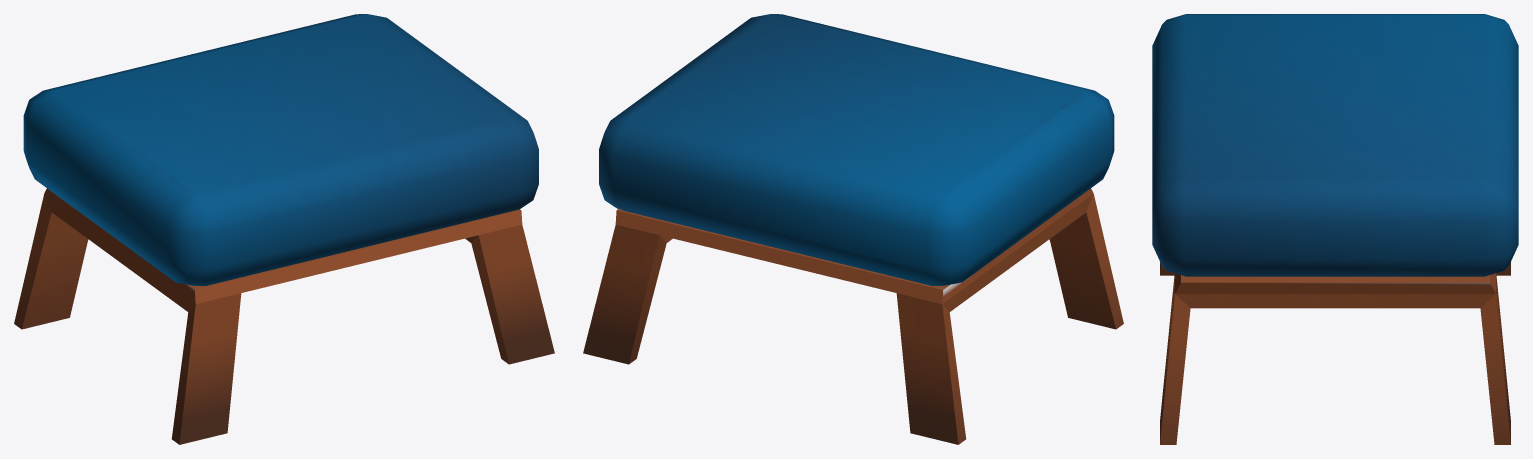
The model's file is furniture_sofa2.fbx.
3 views of the same model, side by side, from view 1: azimuth 30°, elevation 25°; view 2: azimuth 150°, elevation 25°; view 3: azimuth 270°, elevation 25° (orthographic). The views are drawn at different scales.
Visible parts, largest first — view 1: furniture_sofa2; view 2: furniture_sofa2; view 3: furniture_sofa2.
Boxes of the visible parts, box(x1,y1,x2,y2) form: furniture_sofa2: box(14, 14, 554, 444); furniture_sofa2: box(583, 14, 1123, 444); furniture_sofa2: box(1152, 14, 1518, 444).
Size of the model in its own units: 0.9964 by 0.7935 by 0.5976.
